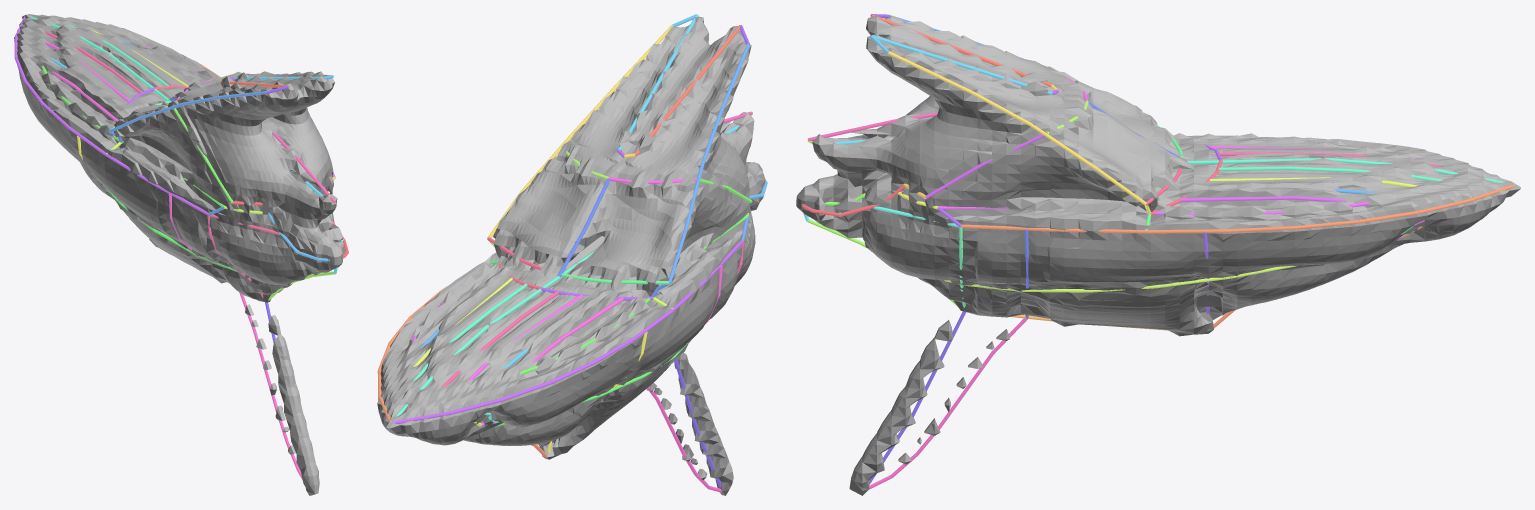
Rendered from ils_boat.gltf.
3 views of the same model, side by side, from view 1: azimuth 30°, elevation 25°; view 2: azimuth 150°, elevation 25°; view 3: azimuth 270°, elevation 25° (orthographic). The views are drawn at different scales.
Bounding box in the file's own units: 0.2458 × 0.5732 × 0.8003.
